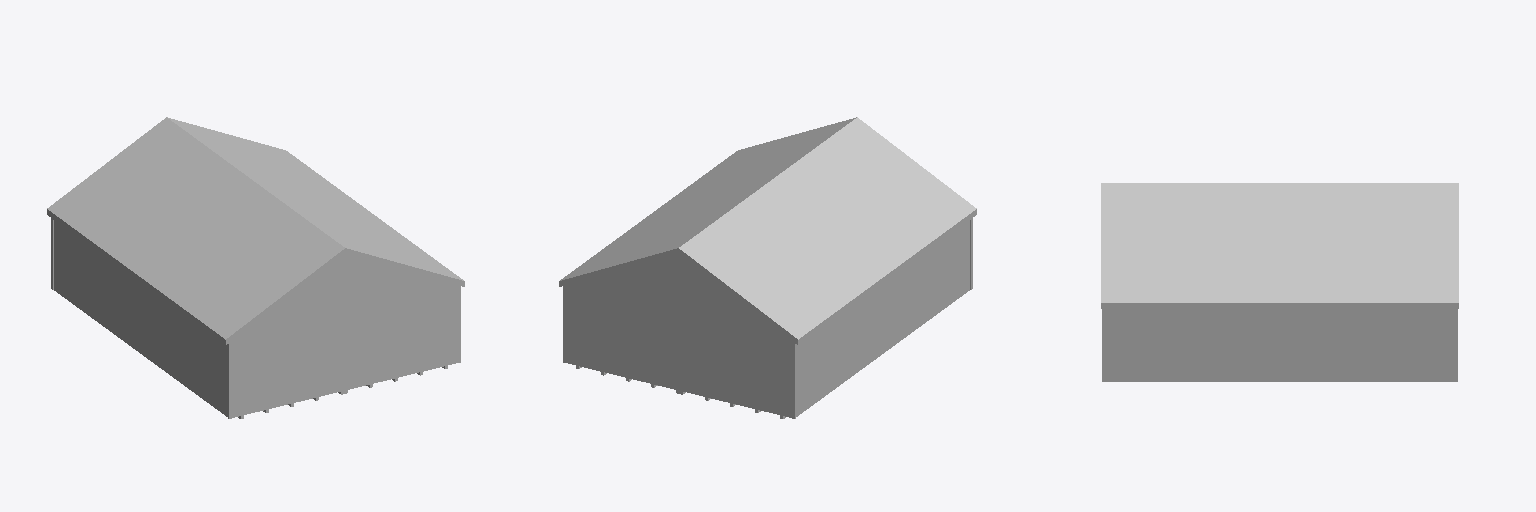
Rendered from Double Garage 6-12 PITCH ROOF_24x32.obj.
3 renders of one model, left to right at view 1: azimuth 30°, elevation 25°; view 2: azimuth 150°, elevation 25°; view 3: azimuth 270°, elevation 25°, orthographic.
Parts seen in each view (by area): view 1: Double Garage 6-12 PITCH ROOF_24x32.obj; view 2: Double Garage 6-12 PITCH ROOF_24x32.obj; view 3: Double Garage 6-12 PITCH ROOF_24x32.obj.
Boxes of the visible parts, <box> form: Double Garage 6-12 PITCH ROOF_24x32.obj: <box>47,117,464,418</box>; Double Garage 6-12 PITCH ROOF_24x32.obj: <box>559,117,976,418</box>; Double Garage 6-12 PITCH ROOF_24x32.obj: <box>1101,183,1458,381</box>.
Bounding box in the file's own units: 7.62 × 4.46 × 9.86.